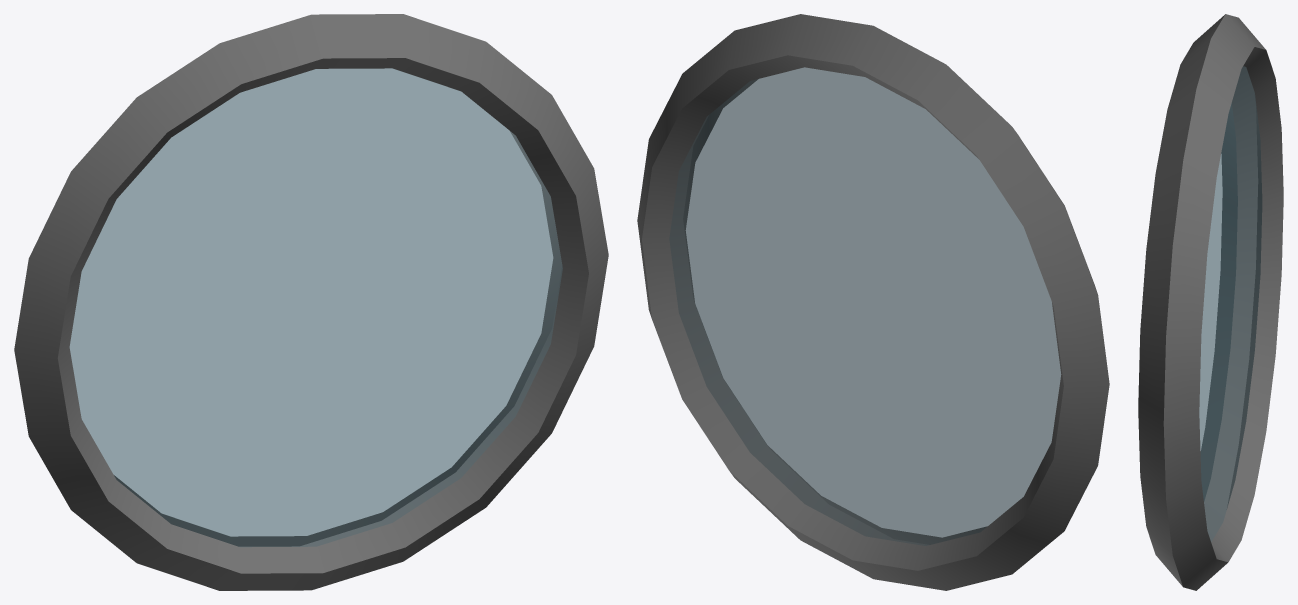
File: Monocles.fbx
The picture shows the model from 3 angles, left to right: view 1: azimuth 30°, elevation 25°; view 2: azimuth 150°, elevation 25°; view 3: azimuth 270°, elevation 25°; orthographic projection. The views are drawn at different scales.
Visible parts, largest first — view 1: polySurface3; view 2: polySurface3; view 3: polySurface3.
Boxes of the visible parts, x1,y1,x2,y2 form: polySurface3: (14, 14, 608, 590); polySurface3: (637, 14, 1109, 590); polySurface3: (1138, 14, 1283, 590).
Bounding box in the file's own units: 9.28 × 9.4 × 2.35.
